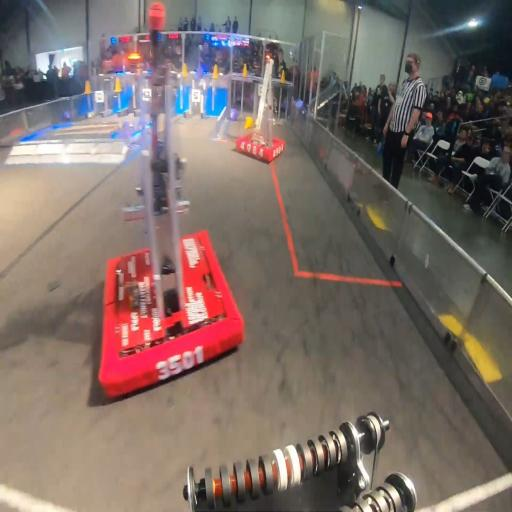robot: (96, 1, 245, 401), (237, 53, 285, 165)
